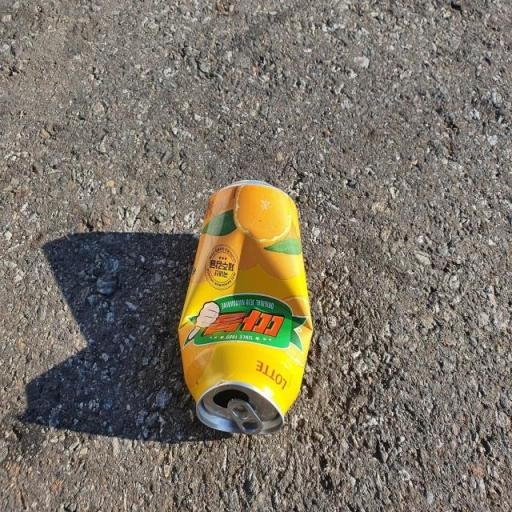metal: (162, 148, 346, 500)
